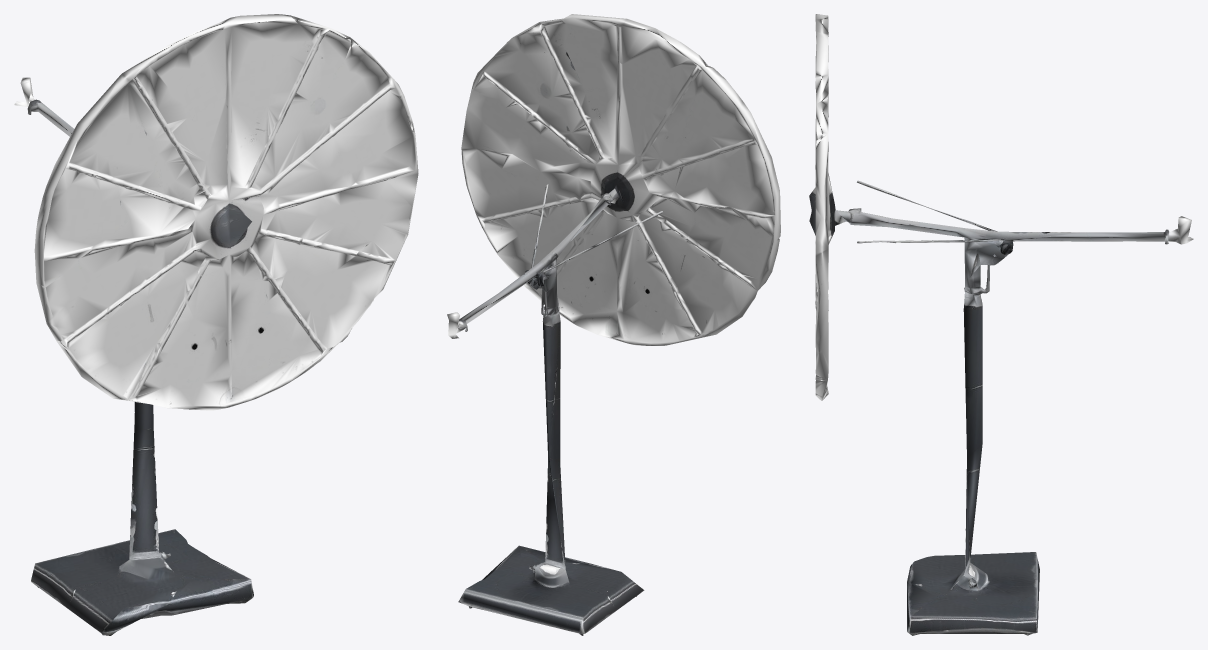
Rendered from dish.glb.
3 views of the same model, side by side, from view 1: azimuth 30°, elevation 25°; view 2: azimuth 150°, elevation 25°; view 3: azimuth 270°, elevation 25° (orthographic). The views are drawn at different scales.
Visible parts, largest first — view 1: Mesh_0.001; view 2: Mesh_0.001; view 3: Mesh_0.001.
Part boxes in pixels (x1,y1,x2,y2): Mesh_0.001: (14,14,418,635); Mesh_0.001: (447,14,780,635); Mesh_0.001: (809,14,1193,635).
Size of the model in its own units: 0.6266 by 1 by 0.6094.
1 material, 1 textured.
